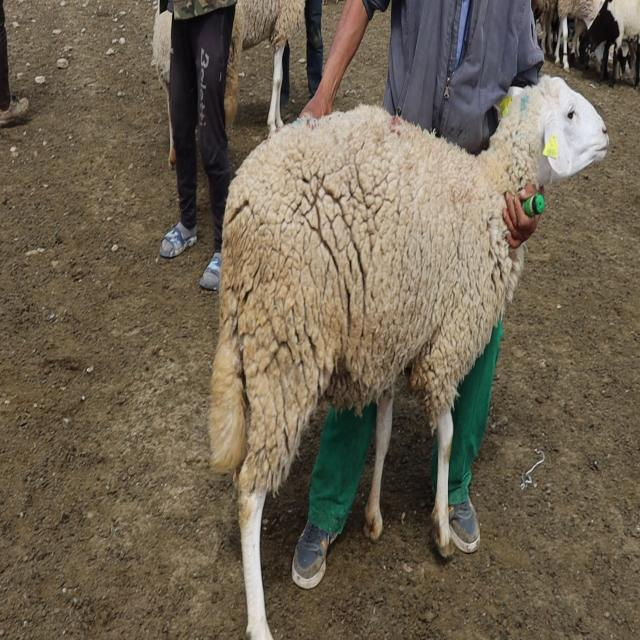Score_5: (208, 75, 609, 639)
